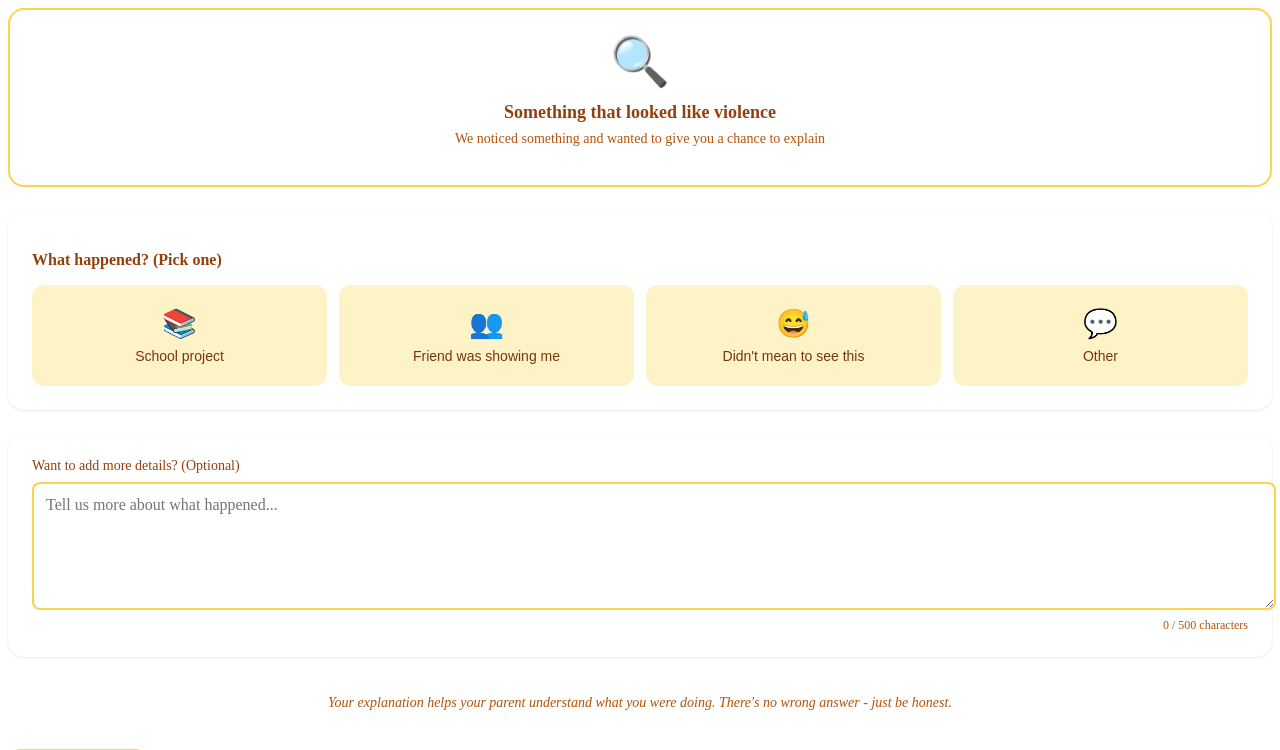
Test: ChildAnnotationView › AC3: Free-text explanation field › should update character count as user types
The image size is (1280, 750).
Step 1. Type "Hello" into the text box with test id "explanation-input" → point(654, 546), box [32, 482, 1276, 610]
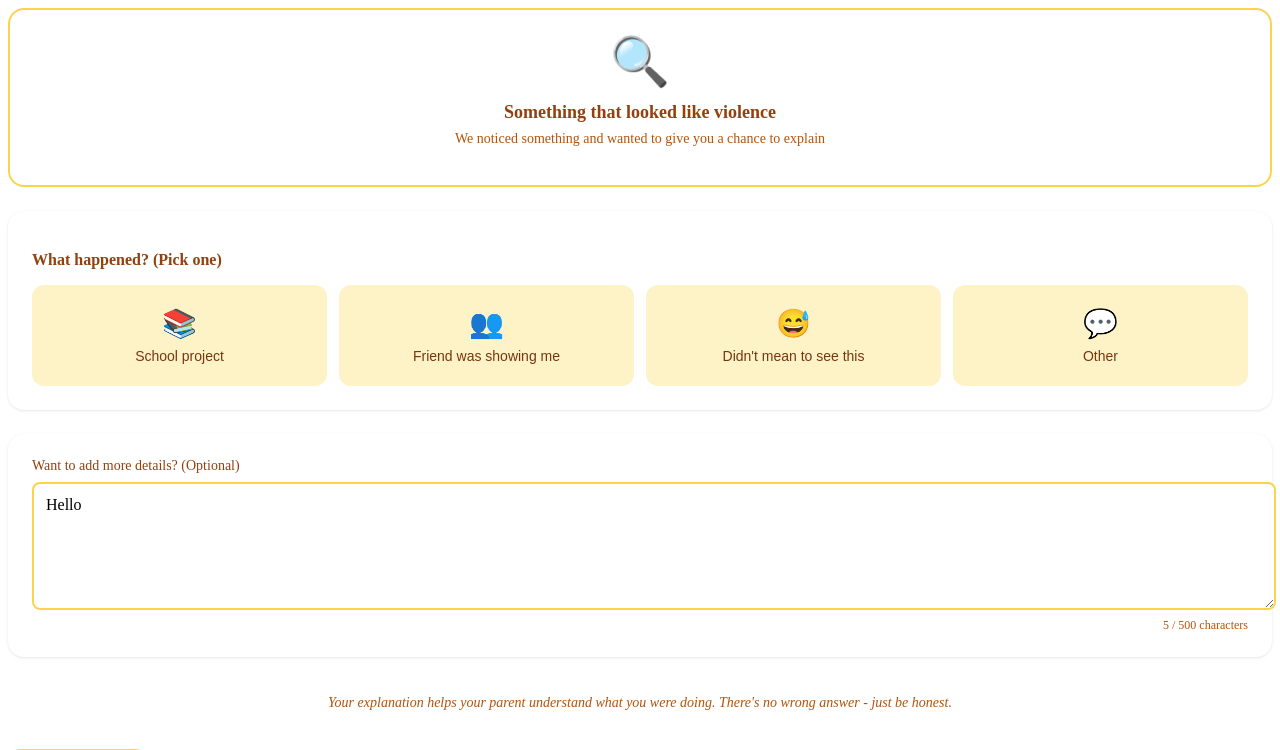
expect the text "5 / 500 characters" is shown: met, box [1163, 618, 1248, 632]
